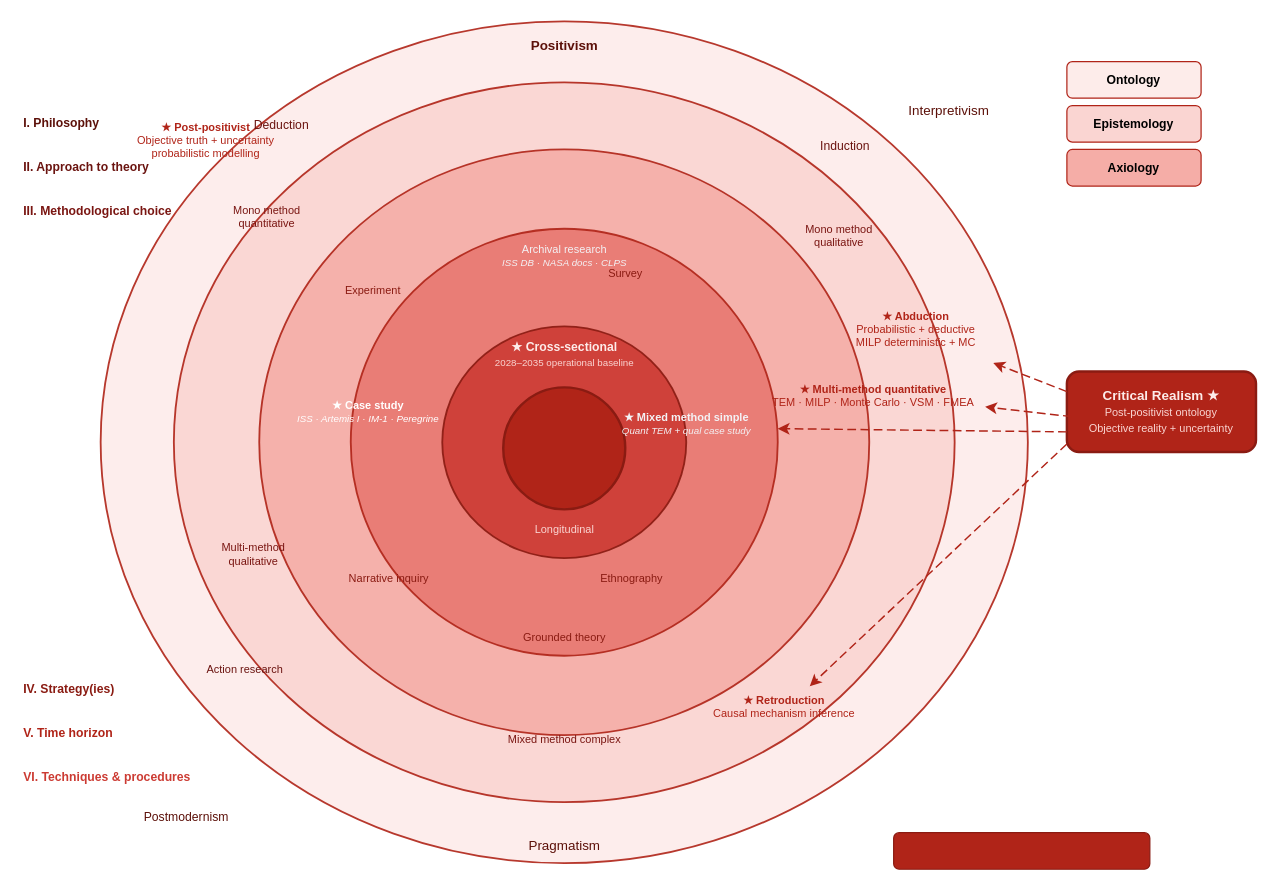
The diagram is 1277 pixels wide and 892 high, and some of its shapes have lost their labels. The box of each missing label's shape, as (x1, y1, x2, y2) in pixels:
Data collection and analysis MILP · Monte Carlo VSM · FMEA · CERs: (501, 386, 626, 510)
★ = Choices in this study: (892, 831, 1150, 869)
